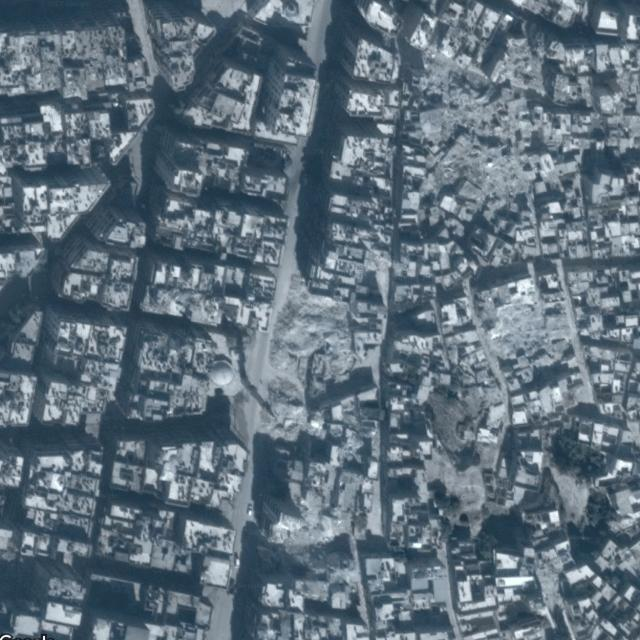damaged_building: (407, 28, 565, 230), (472, 267, 585, 410), (261, 274, 356, 443), (277, 490, 361, 589)
